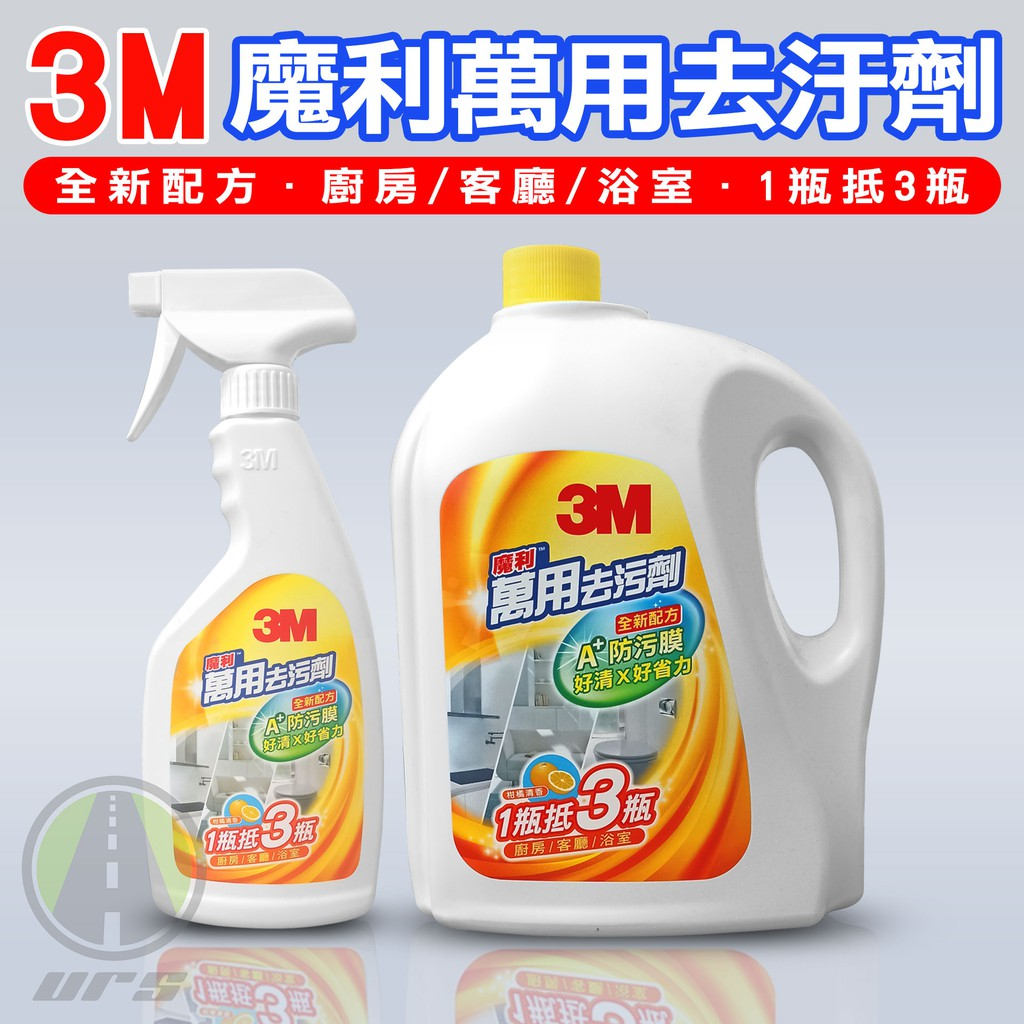cleaner: (384, 238, 885, 942), (119, 265, 395, 930)
